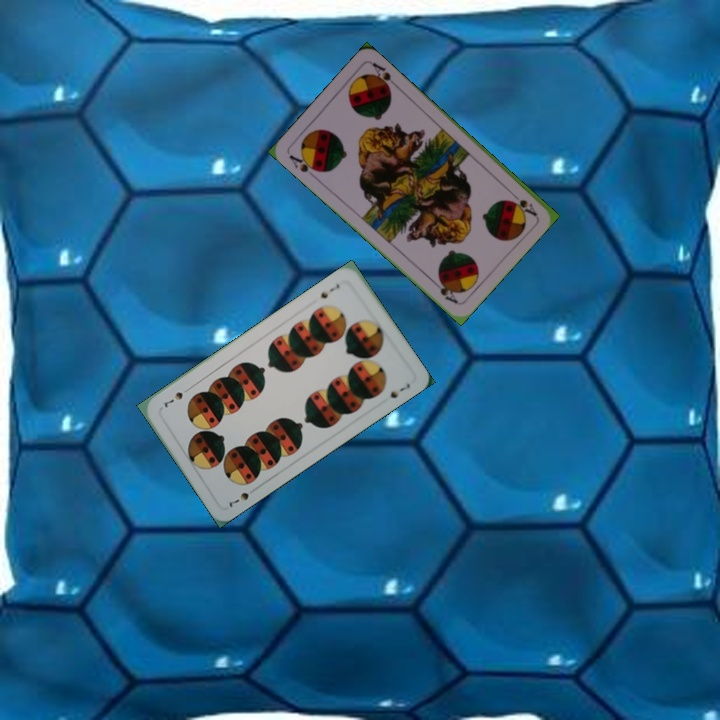S7: (225, 488, 252, 510), (316, 279, 342, 301)
SA: (506, 187, 539, 218), (285, 150, 323, 175)
